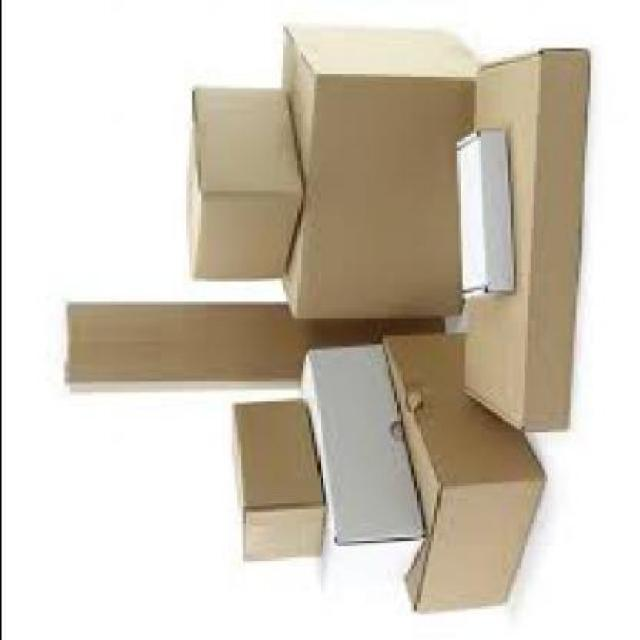box: (274, 20, 489, 312), (462, 46, 585, 431), (382, 339, 545, 610), (60, 299, 442, 390), (294, 342, 421, 586), (182, 86, 302, 280), (223, 395, 322, 560), (451, 126, 512, 297)
